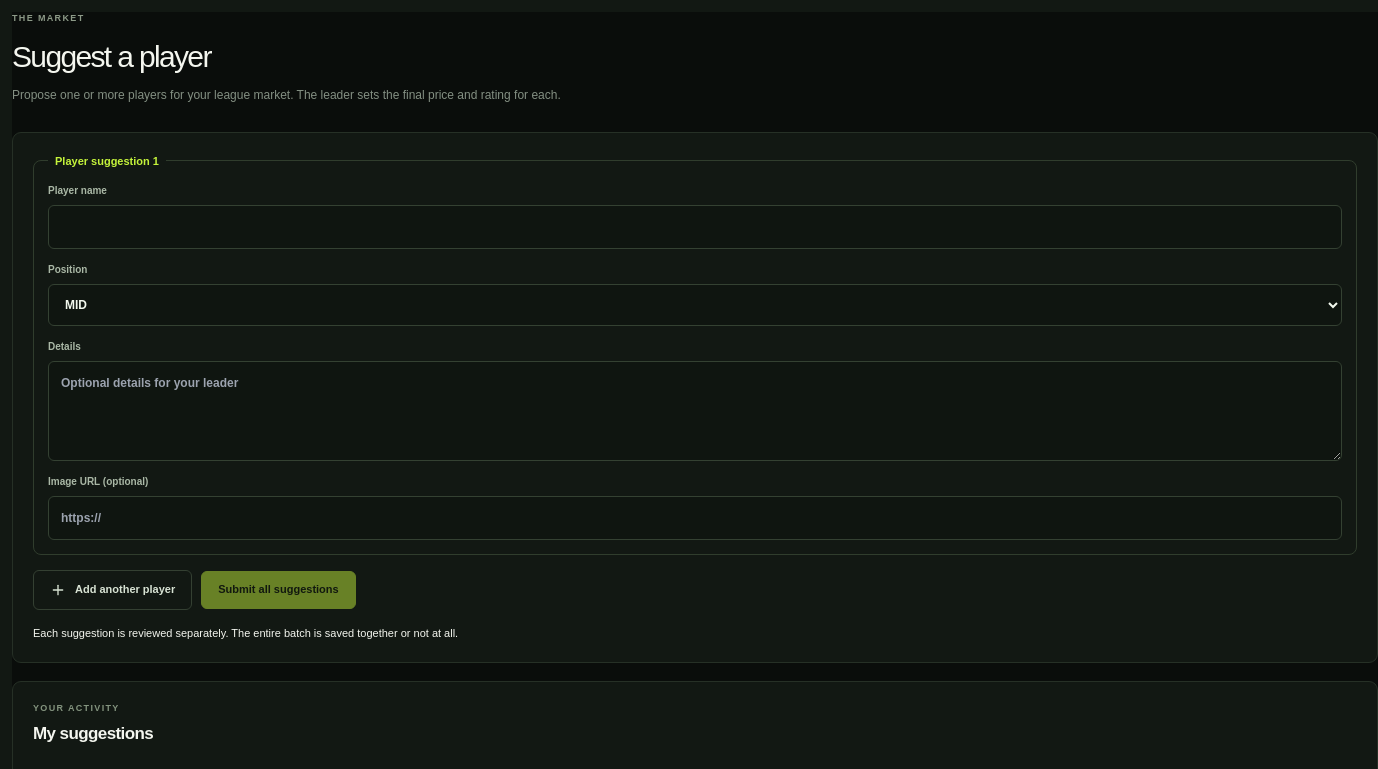
Test case: Live suggestion batches › keeps an invalid batch intact and displays the server error without claiming success
Type "Candidate One" into the field labelled "Player name" at (695, 227), box [48,205,1342,249]
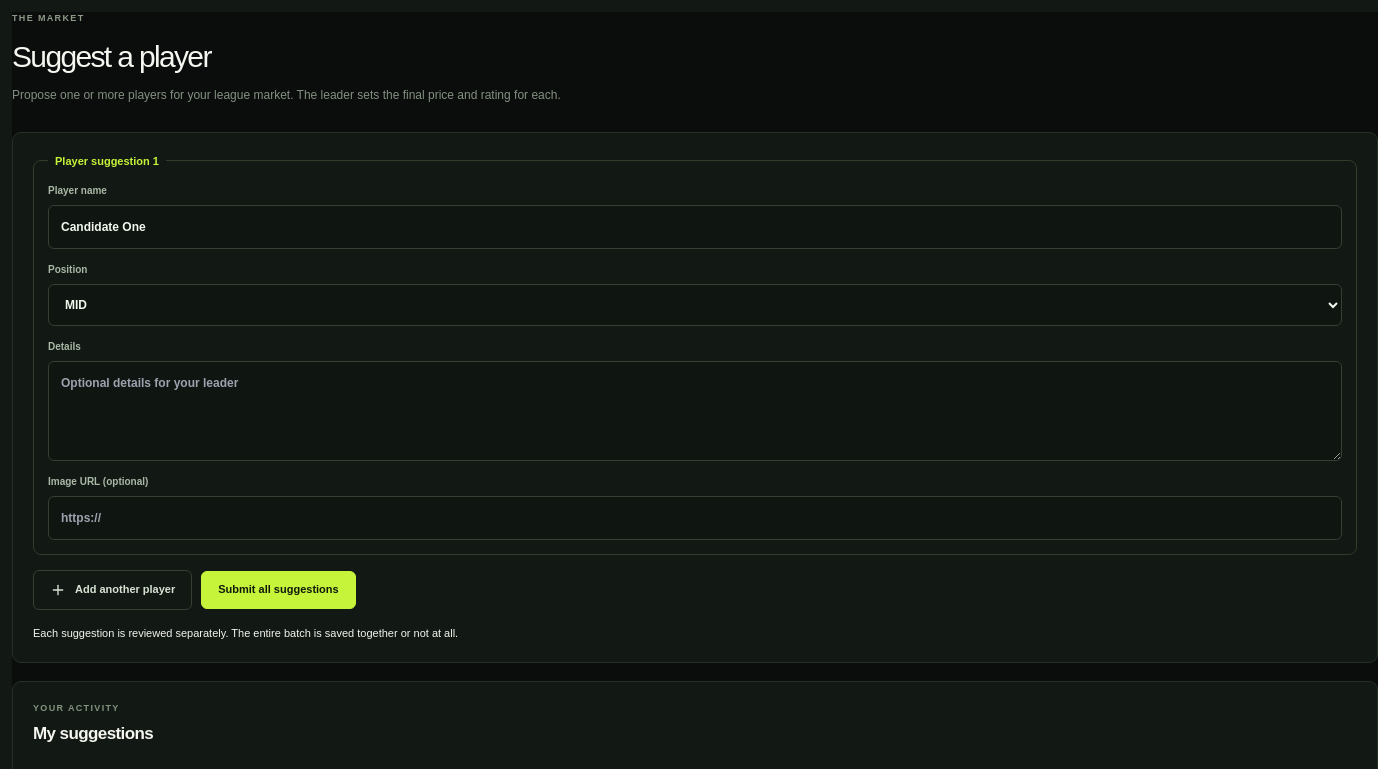
Click the button "Submit all suggestions" at (278, 590), box [201,571,356,609]
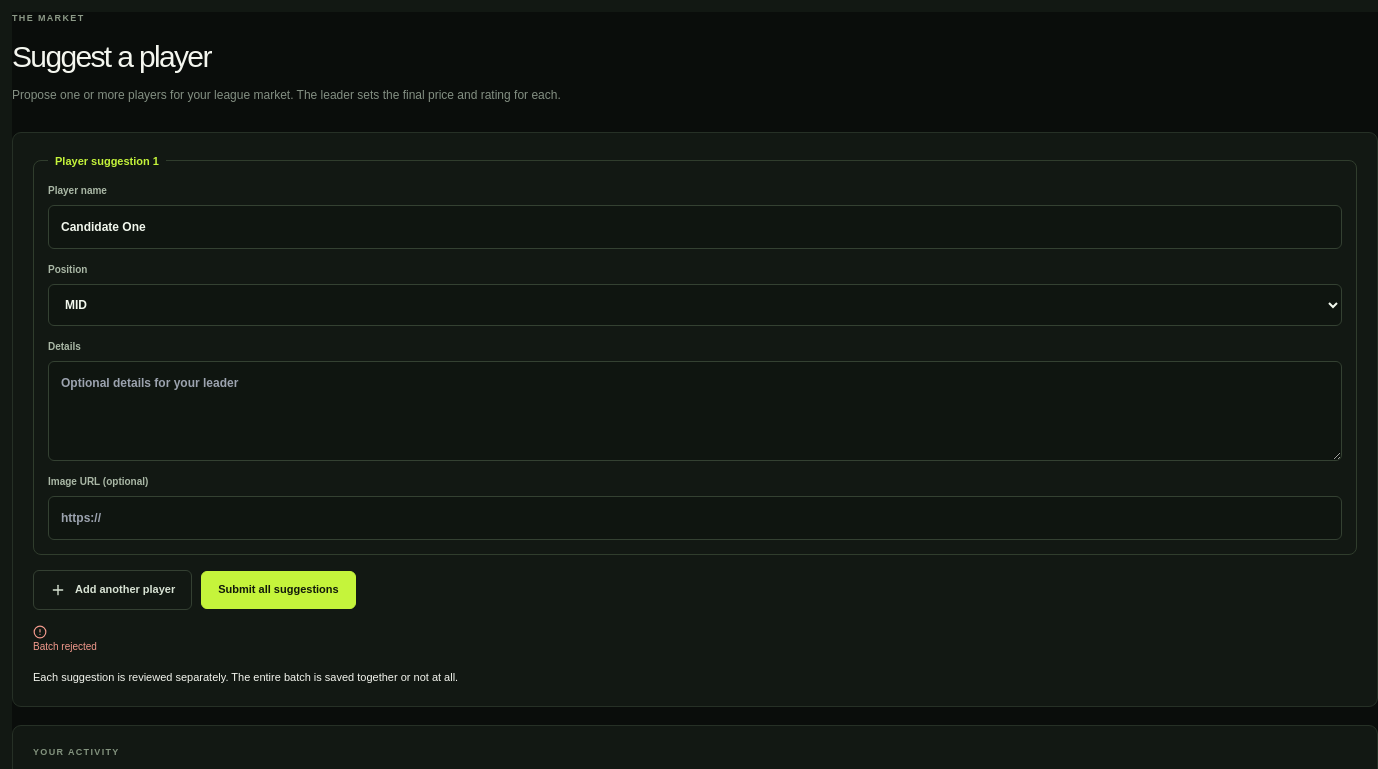
Check: the message reads "Batch rejected", box [33,641,97,652]
